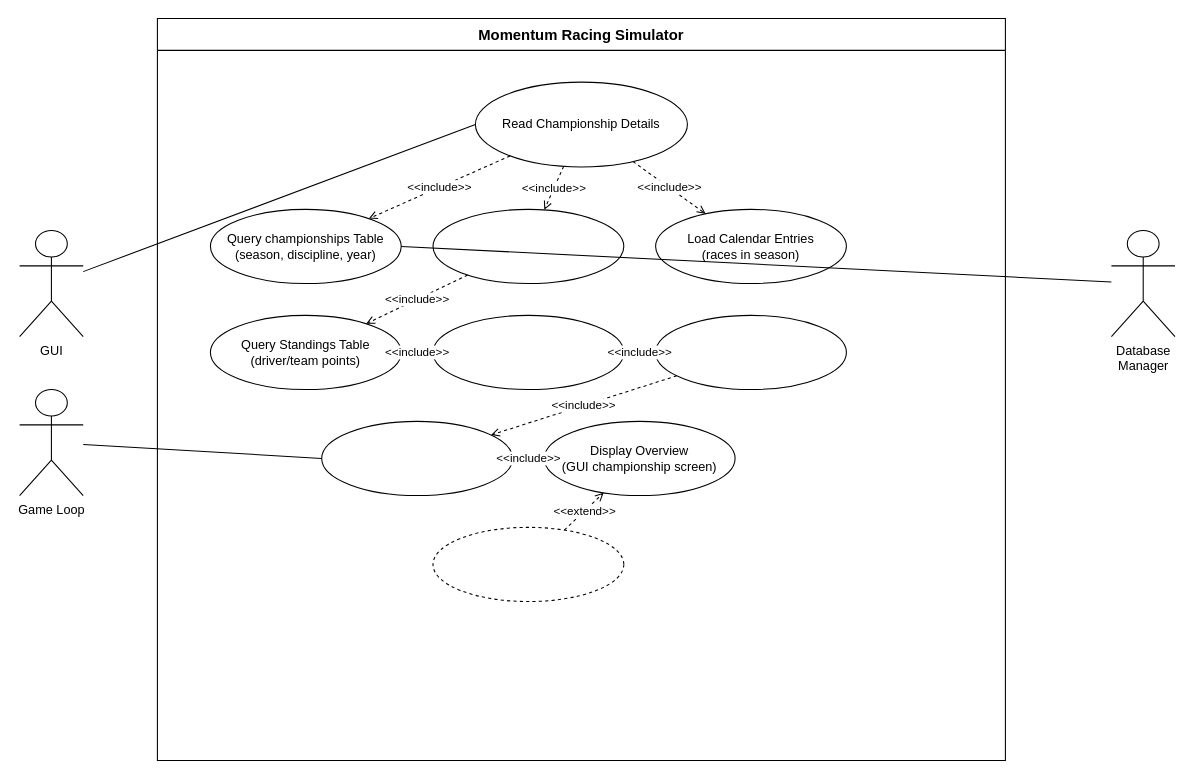
This 1194x779 diagram has some shape labels left out. Each missing label, with the centre of its shape:
"Aggregate Points (from race results)" belongs at [528,352].
"Display Upcoming Races (calendar widget)" belongs at [528,564].
"Format Championship Object (JSON/dict with standings)" belongs at [417,458].
"Retrieve Metadata (points system, rules)" belongs at [528,246].
"Sort Standings (by points desc)" belongs at [750,352].
